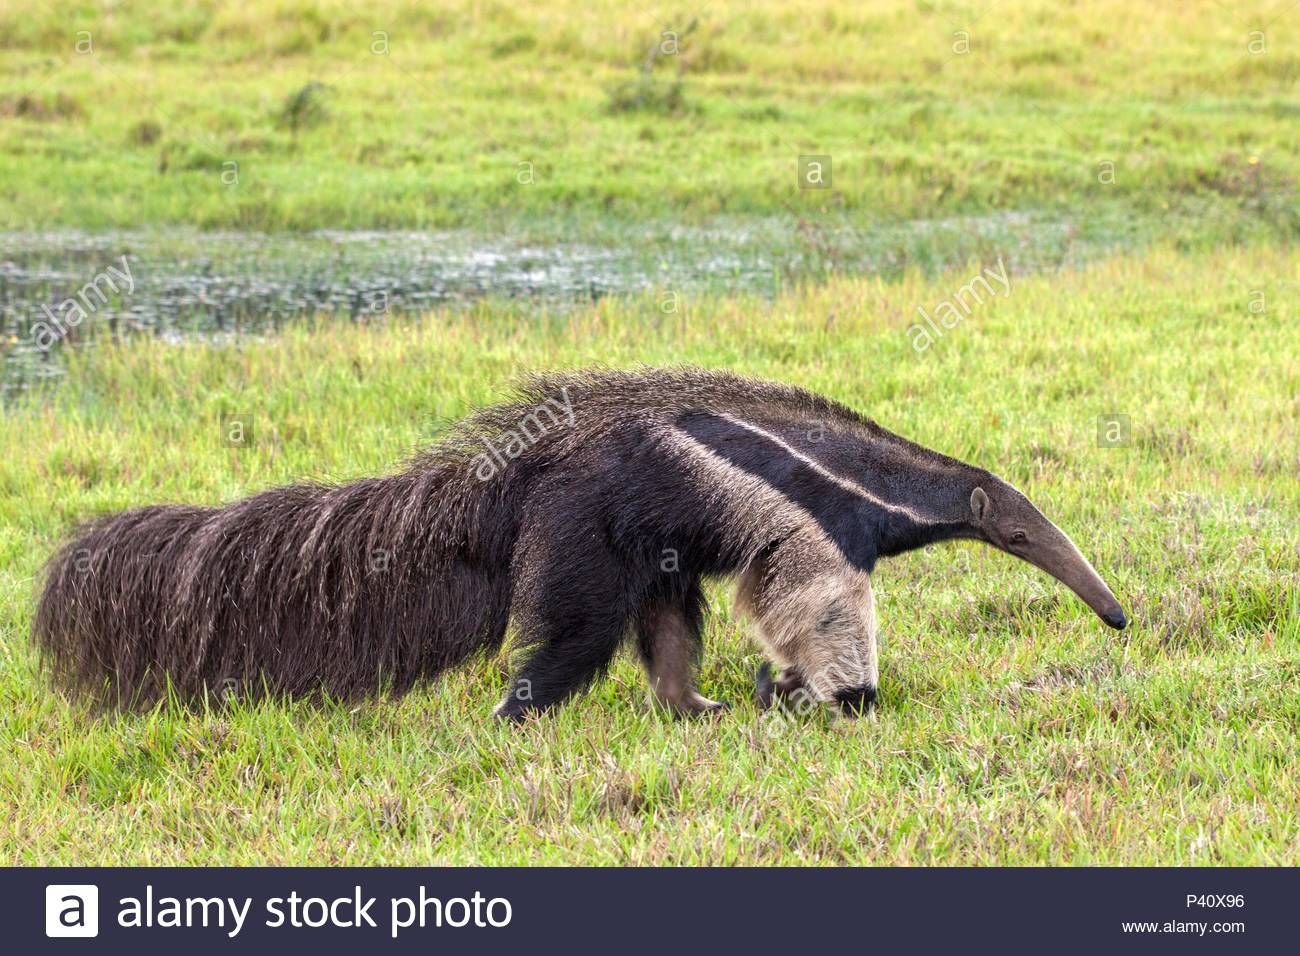TamanduaBandeira: (22, 356, 1136, 733)
